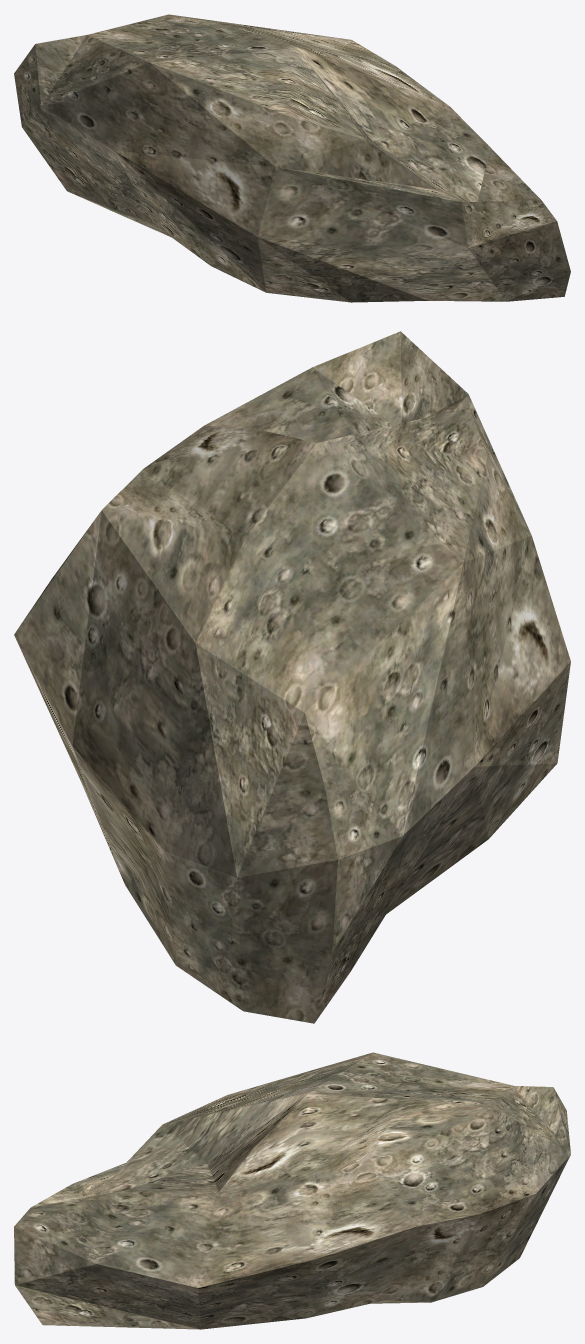
File: asteroid_radial_s03_l1.fbx
3 views of the same model, one above another, from view 1: azimuth 30°, elevation 25°; view 2: azimuth 150°, elevation 25°; view 3: azimuth 270°, elevation 25° (orthographic). The views are drawn at different scales.
Parts seen in each view (by area): view 1: mesh_node; view 2: mesh_node; view 3: mesh_node.
Part boxes in pixels (bbox=[...]): mesh_node: bbox=[14, 14, 570, 302]; mesh_node: bbox=[14, 331, 570, 1023]; mesh_node: bbox=[14, 1052, 570, 1329].
Bounding box in the file's own units: 2.11 × 1.48 × 3.46.
